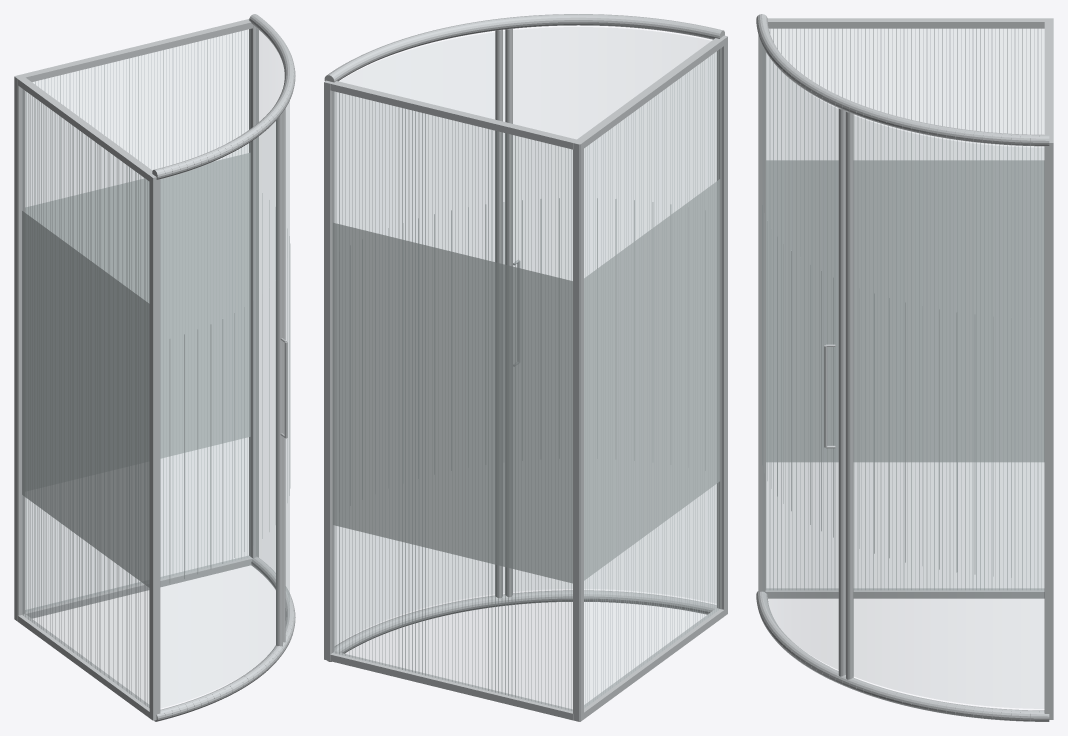
The model's file is curved-corner-glass-shower-enclosure-17.glb.
The picture shows the model from 3 angles, left to right: view 1: azimuth 30°, elevation 25°; view 2: azimuth 150°, elevation 25°; view 3: azimuth 270°, elevation 25°; orthographic projection. The views are drawn at different scales.
Parts seen in each view (by area): view 1: Curved clear glass, Quadrant side 0 / Fixed side glass privacy band, Quadrant side 90 / Fixed side glass privacy band, Quadrant side 0 / Fixed side glass etched stripes, Quadrant side 90 / Fixed side glass upper clear, Quadrant side 90 / Fixed side glass lower clear, Quadrant side 0 / Fixed side glass frame, Quadrant side 90 / Fixed side glass frame, Quadrant side 90 / Fixed side glass etched stripes, Quadrant side 0 / Fixed side glass upper clear, Curved door stiles, Curved tracks (+1 smaller); view 2: Quadrant side 0 / Fixed side glass privacy band, Quadrant side 90 / Fixed side glass privacy band, Quadrant side 0 / Fixed side glass upper clear, Quadrant side 0 / Fixed side glass lower clear, Curved clear glass, Quadrant side 0 / Fixed side glass etched stripes, Quadrant side 90 / Fixed side glass upper clear, Quadrant side 90 / Fixed side glass lower clear, Quadrant side 0 / Fixed side glass frame, Quadrant side 90 / Fixed side glass etched stripes, Quadrant side 90 / Fixed side glass frame, Curved door stiles (+2 smaller); view 3: Curved clear glass, Quadrant side 90 / Fixed side glass privacy band, Quadrant side 90 / Fixed side glass etched stripes, Quadrant side 90 / Fixed side glass upper clear, Quadrant side 90 / Fixed side glass frame, Curved door stiles, Curved tracks, Quadrant side 0 / Fixed side glass frame, Curved etched detail.
Boxes of the visible parts, <box> form: Curved clear glass: <box>161,28,289,707</box>; Quadrant side 0 / Fixed side glass privacy band: <box>25,153,250,490</box>; Quadrant side 90 / Fixed side glass privacy band: <box>22,211,149,587</box>; Quadrant side 0 / Fixed side glass etched stripes: <box>26,30,247,611</box>; Quadrant side 90 / Fixed side glass upper clear: <box>22,89,148,302</box>; Quadrant side 90 / Fixed side glass lower clear: <box>22,495,148,706</box>; Quadrant side 0 / Fixed side glass frame: <box>15,19,258,618</box>; Quadrant side 90 / Fixed side glass frame: <box>14,76,160,720</box>; Quadrant side 90 / Fixed side glass etched stripes: <box>23,90,149,707</box>; Quadrant side 0 / Fixed side glass upper clear: <box>33,29,249,169</box>; Curved door stiles: <box>250,28,285,646</box>; Curved tracks: <box>152,14,295,721</box>; Quadrant side 0 / Fixed side glass privacy band: <box>332,222,572,583</box>; Quadrant side 90 / Fixed side glass privacy band: <box>584,179,720,580</box>; Quadrant side 0 / Fixed side glass upper clear: <box>333,92,572,280</box>; Quadrant side 0 / Fixed side glass lower clear: <box>333,525,572,710</box>; Curved clear glass: <box>340,27,709,138</box>; Quadrant side 0 / Fixed side glass etched stripes: <box>332,91,571,710</box>; Quadrant side 90 / Fixed side glass upper clear: <box>584,50,719,277</box>; Quadrant side 90 / Fixed side glass lower clear: <box>584,482,719,707</box>; Quadrant side 0 / Fixed side glass frame: <box>324,80,583,721</box>; Quadrant side 90 / Fixed side glass etched stripes: <box>585,49,720,706</box>; Quadrant side 90 / Fixed side glass frame: <box>573,35,727,721</box>; Curved door stiles: <box>331,28,721,652</box>; Curved clear glass: <box>762,46,1043,708</box>; Quadrant side 90 / Fixed side glass privacy band: <box>766,160,1044,462</box>; Quadrant side 90 / Fixed side glass etched stripes: <box>766,28,1041,589</box>; Quadrant side 90 / Fixed side glass upper clear: <box>771,29,1043,147</box>; Quadrant side 90 / Fixed side glass frame: <box>758,18,1052,598</box>; Curved door stiles: <box>765,52,853,679</box>; Curved tracks: <box>756,14,1049,721</box>; Quadrant side 0 / Fixed side glass frame: <box>1044,18,1053,719</box>; Curved etched detail: <box>762,205,1030,578</box>.
Bounding box in the file's own units: 0.932 × 2.03 × 0.932.
